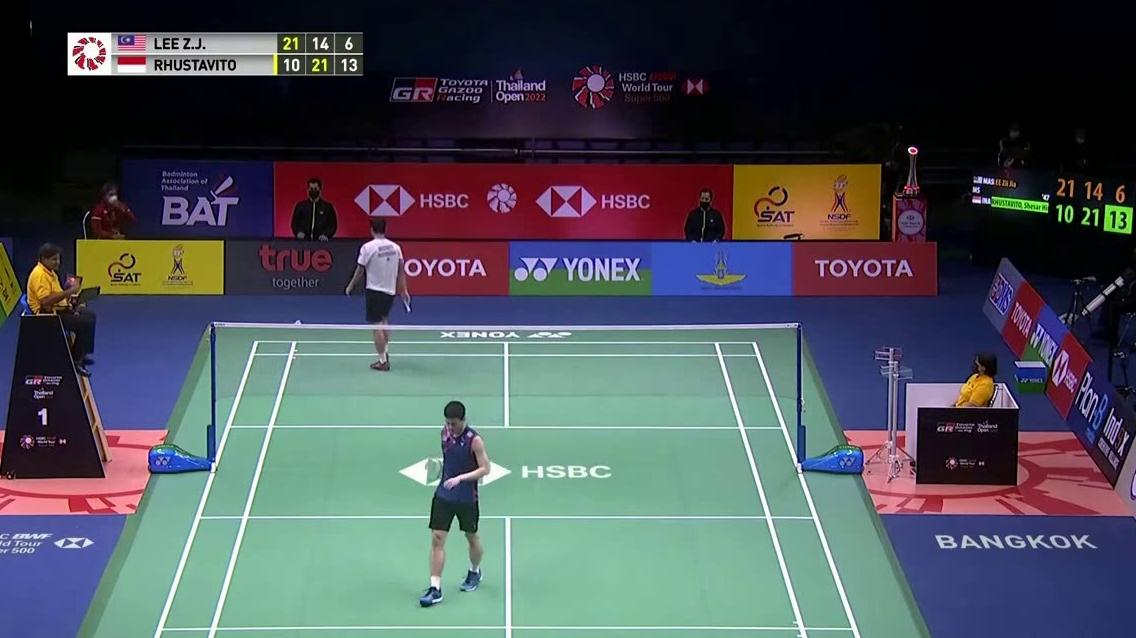racket: (418, 454, 445, 482), (401, 295, 412, 315)
shuttle: (295, 319, 302, 327)
